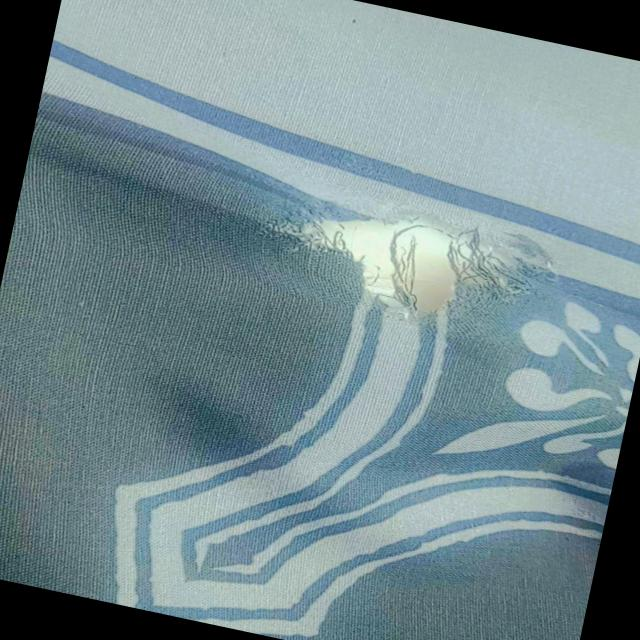cut: (245, 166, 562, 343)
